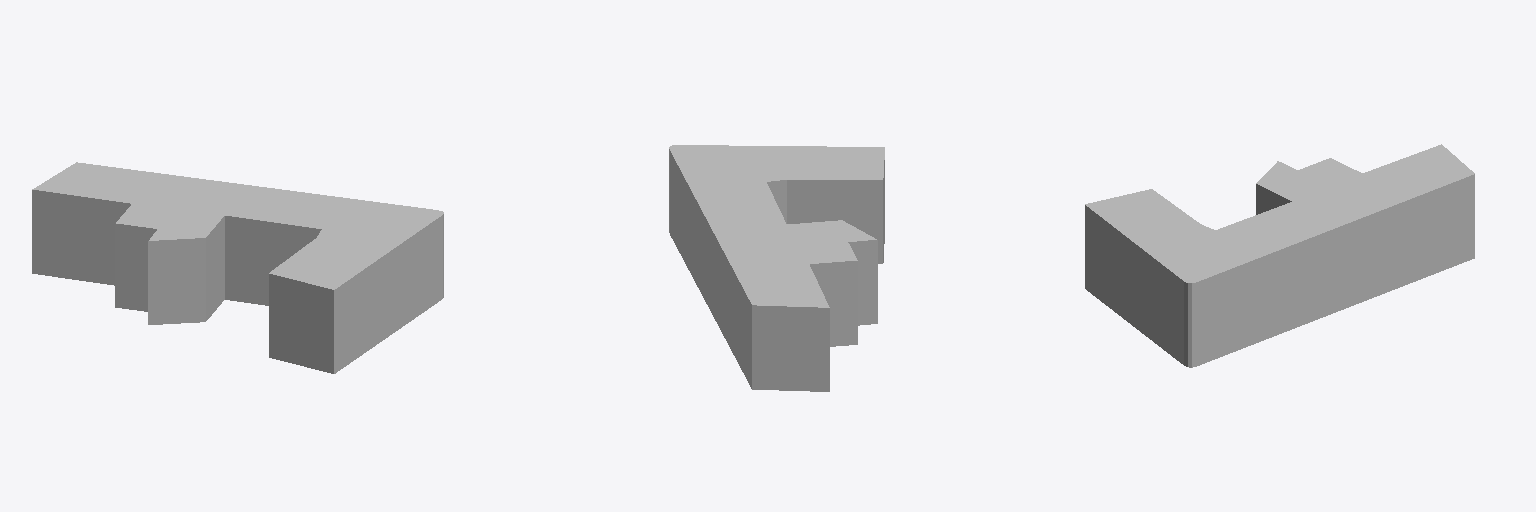
Rendered from office_9.obj.
3 renders of one model, left to right at view 1: azimuth 30°, elevation 25°; view 2: azimuth 150°, elevation 25°; view 3: azimuth 270°, elevation 25°, orthographic.
Visible parts, largest first — view 1: object_1; view 2: object_1; view 3: object_1.
Part boxes in pixels (x1,y1,x2,y2): object_1: (32,162,443,373); object_1: (669,145,884,391); object_1: (1085,144,1474,367).
Size of the model in its own units: 174 by 49 by 206.